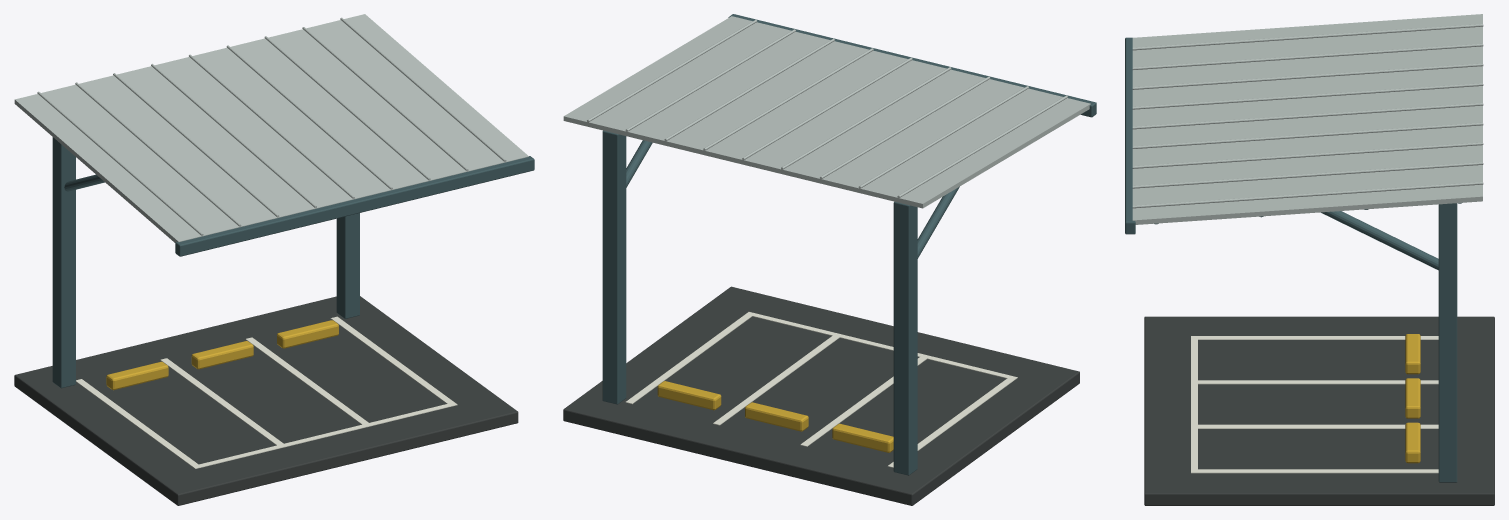
File: covered-motorcycle-parking.glb
The picture shows the model from 3 angles, left to right: view 1: azimuth 30°, elevation 25°; view 2: azimuth 150°, elevation 25°; view 3: azimuth 270°, elevation 25°; orthographic projection. The views are drawn at different scales.
Parts seen in each view (by area): view 1: ROOF_Cantilever, SLAB_Parking, COLUMN_-1.5, GUTTER_Front, COLUMN_1.5, MARK_Front, STOP_0, STOP_1, STOP_2, MARK_BayLine_0, MARK_BayLine_1, MARK_BayLine_3 (+10 smaller); view 2: SLAB_Parking, ROOF_Cantilever, COLUMN_-1.5, COLUMN_1.5, GUTTER_Front, STOP_2, STOP_1, STOP_0, MARK_Front, MARK_BayLine_3, MARK_BayLine_2, MARK_BayLine_1 (+11 smaller); view 3: ROOF_Cantilever, SLAB_Parking, COLUMN_1.5, GUTTER_Front, BRACE_1.5, MARK_BayLine_3, ROOF_Rib_-0.8, ROOF_Rib_0.8, ROOF_Rib_-0.4, ROOF_Rib_1.2, ROOF_Rib_-1.6, ROOF_Rib_0 (+10 smaller).
Boxes of the visible parts, x1=… form: ROOF_Cantilever: x1=14, y1=14, x2=528, y2=242; SLAB_Parking: x1=14, y1=296, x2=518, y2=505; COLUMN_-1.5: x1=52, y1=137, x2=75, y2=388; GUTTER_Front: x1=175, y1=156, x2=534, y2=256; COLUMN_1.5: x1=336, y1=213, x2=359, y2=318; MARK_Front: x1=197, y1=404, x2=456, y2=468; STOP_0: x1=106, y1=361, x2=168, y2=390; STOP_1: x1=191, y1=341, x2=253, y2=369; STOP_2: x1=277, y1=320, x2=338, y2=348; MARK_BayLine_0: x1=76, y1=379, x2=201, y2=468; MARK_BayLine_1: x1=160, y1=358, x2=286, y2=447; MARK_BayLine_3: x1=330, y1=316, x2=457, y2=405; SLAB_Parking: x1=563, y1=286, x2=1079, y2=505; ROOF_Cantilever: x1=563, y1=16, x2=1090, y2=208; COLUMN_-1.5: x1=893, y1=201, x2=917, y2=475; COLUMN_1.5: x1=602, y1=130, x2=626, y2=404; GUTTER_Front: x1=728, y1=14, x2=1096, y2=117; STOP_2: x1=657, y1=381, x2=721, y2=410; STOP_1: x1=745, y1=402, x2=808, y2=431; STOP_0: x1=832, y1=423, x2=893, y2=452; MARK_Front: x1=751, y1=313, x2=1011, y2=378; MARK_BayLine_3: x1=625, y1=312, x2=755, y2=404; MARK_BayLine_2: x1=713, y1=333, x2=842, y2=425; MARK_BayLine_1: x1=800, y1=354, x2=929, y2=446; ROOF_Cantilever: x1=1132, y1=14, x2=1482, y2=224; SLAB_Parking: x1=1144, y1=316, x2=1494, y2=505; COLUMN_1.5: x1=1438, y1=203, x2=1457, y2=482; GUTTER_Front: x1=1125, y1=37, x2=1135, y2=234; BRACE_1.5: x1=1320, y1=211, x2=1438, y2=270; MARK_BayLine_3: x1=1191, y1=469, x2=1438, y2=473; ROOF_Rib_-0.8: x1=1132, y1=63, x2=1483, y2=89; ROOF_Rib_0.8: x1=1132, y1=142, x2=1483, y2=168; ROOF_Rib_-0.4: x1=1132, y1=83, x2=1483, y2=109; ROOF_Rib_1.2: x1=1132, y1=162, x2=1483, y2=188; ROOF_Rib_-1.6: x1=1132, y1=24, x2=1483, y2=50; ROOF_Rib_0: x1=1132, y1=103, x2=1483, y2=129.
Bounding box in the file's own units: 3.75 × 2.97 × 3.17.
